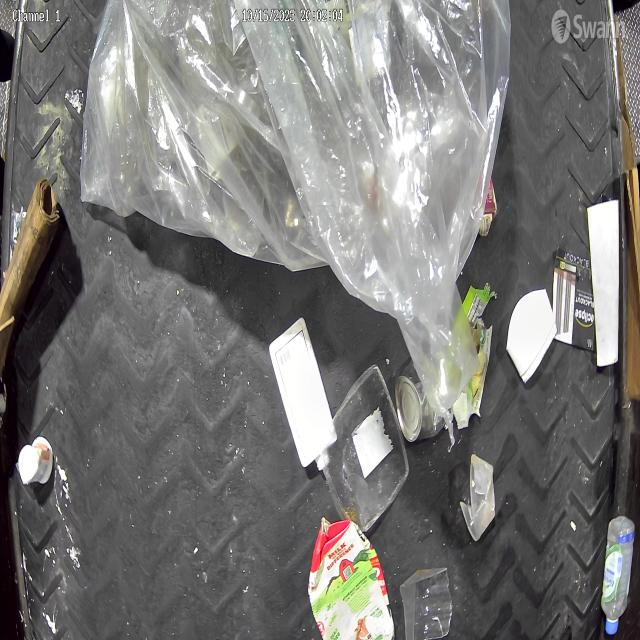can: (395, 357, 452, 441)
milk_jug: (268, 318, 340, 474)
non_white_jug: (310, 510, 398, 640)
plastic_bottle: (601, 513, 636, 635)
